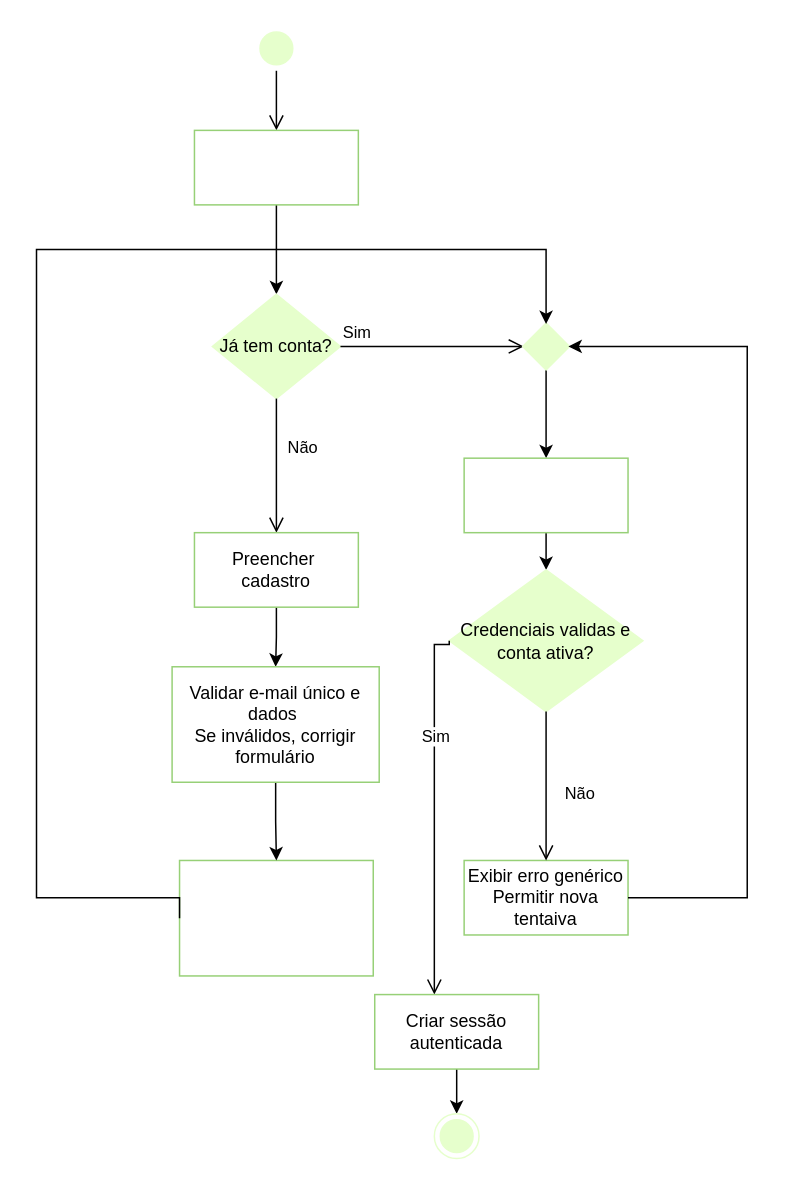
This 785x1185 diagram has some shape labels left out. Here are the shapes that lost their labels. From the top down, the centre of each, then its label:
the point at 275,167: Visitante escolhe acesso
the point at 545,495: Informar e-mail e senha
the point at 275,917: Criar conta USUARIO ativa Salvar hash da senha
